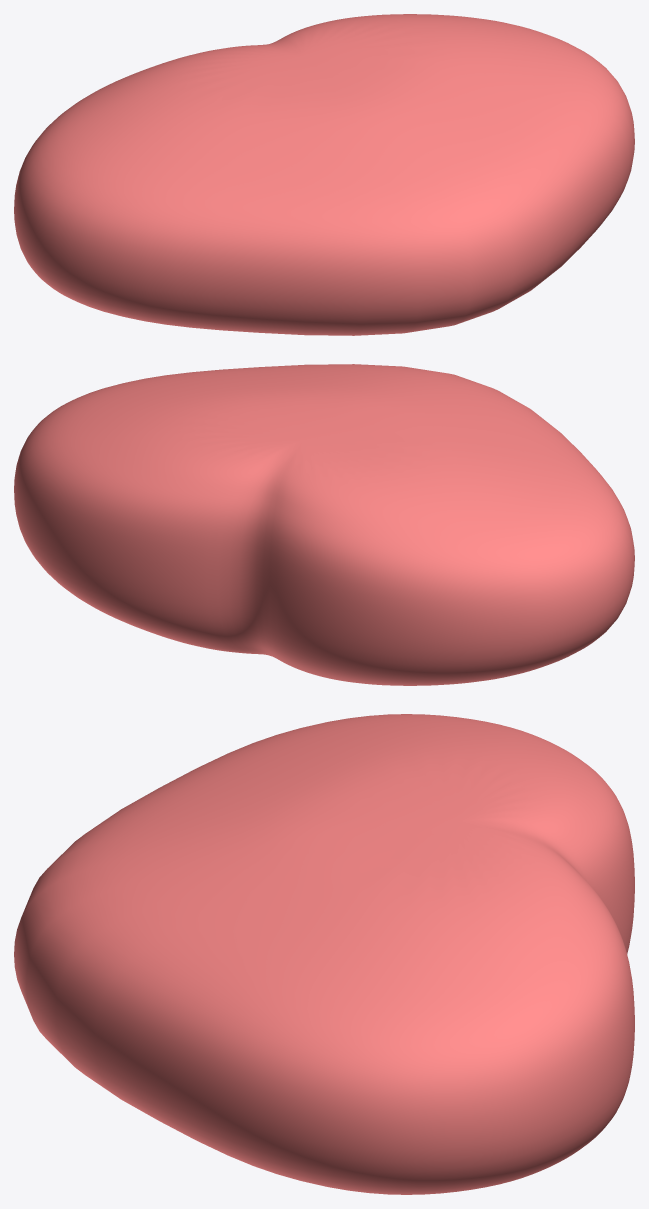
Rendered from heart.fbx.
The picture shows the model from 3 angles, top to bottom: view 1: azimuth 30°, elevation 25°; view 2: azimuth 150°, elevation 25°; view 3: azimuth 270°, elevation 25°; orthographic projection. The views are drawn at different scales.
Visible parts, largest first — view 1: Circle; view 2: Circle; view 3: Circle.
Boxes of the visible parts, x1=… form: Circle: x1=14, y1=14, x2=634, y2=335; Circle: x1=14, y1=364, x2=634, y2=685; Circle: x1=14, y1=714, x2=634, y2=1194.
Bounding box in the file's own units: 302 × 101 × 215.
